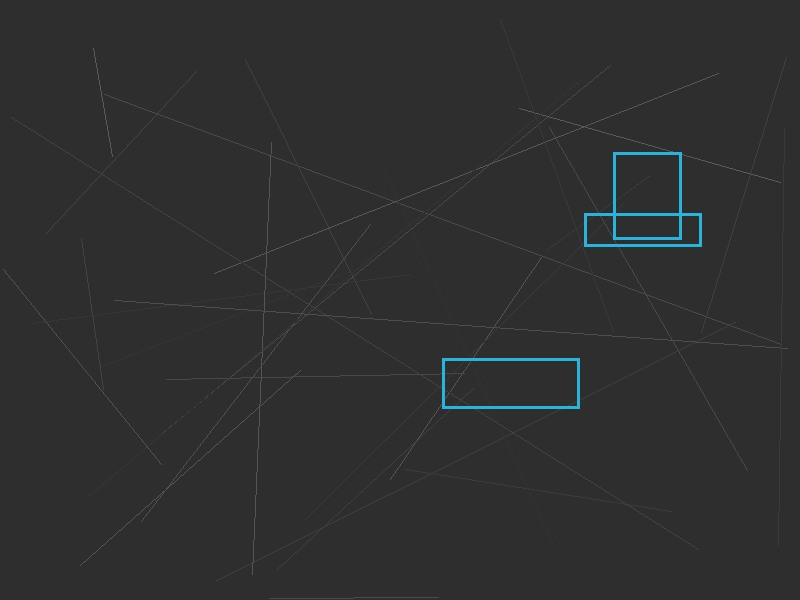D10: (22, 440, 134, 551)
D20: (382, 43, 516, 98), (211, 375, 350, 420)
